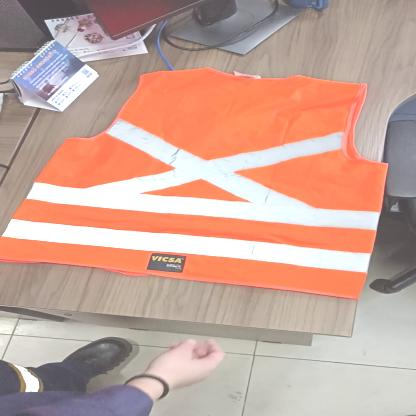colete: (5, 64, 392, 300)
